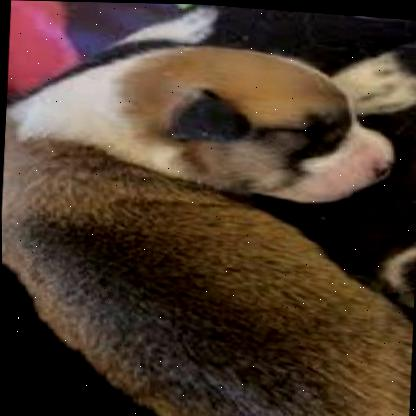dog: (0, 26, 416, 416)
